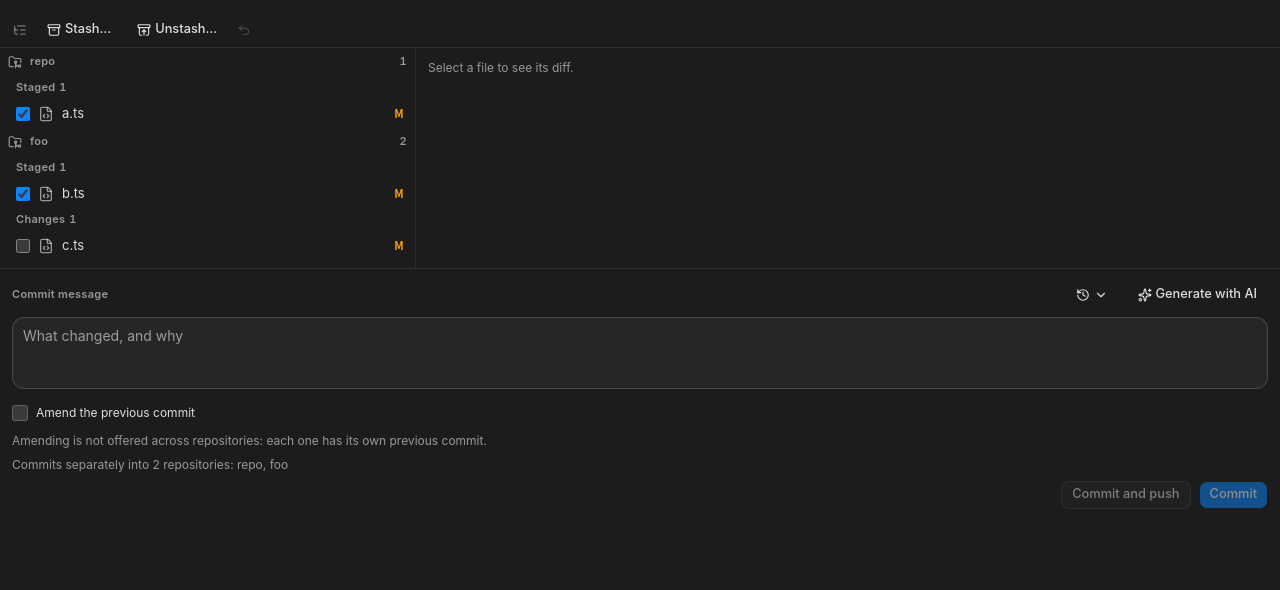
it: cross-repository commit › keeps the repositories that did commit when a later one fails
Type "fix: two repositories" into the text box named "Commit message" at (640, 353), box top-left (12, 317), bottom-right (1268, 389)
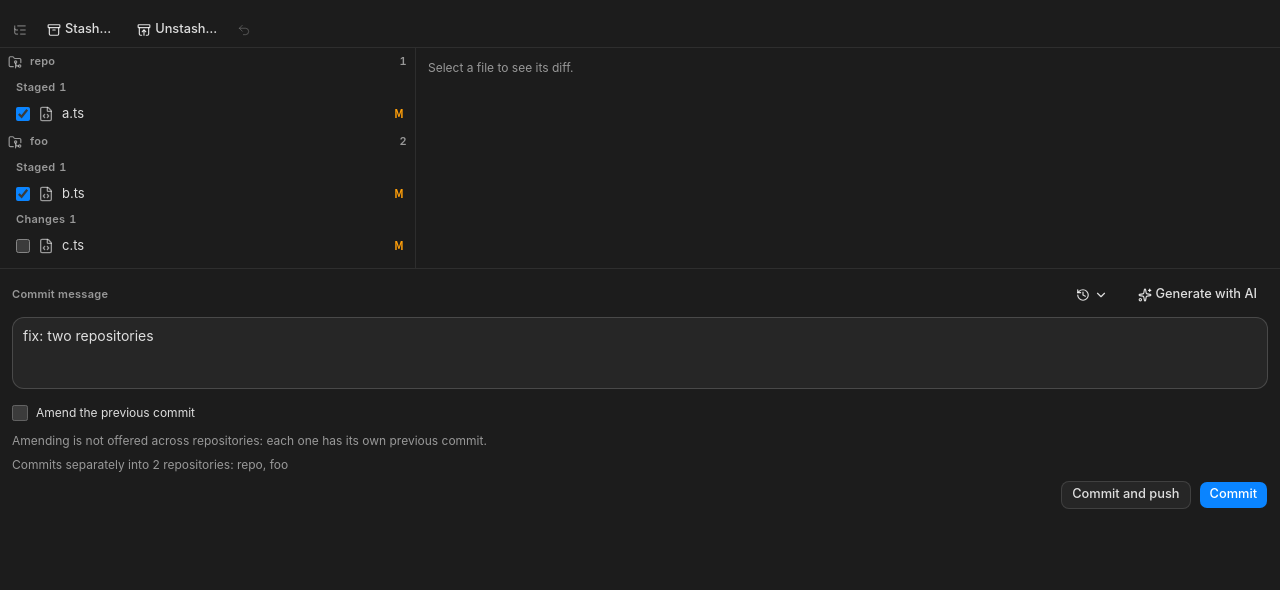
Click the button "Commit" at (1233, 495), box top-left (1199, 481), bottom-right (1268, 509)
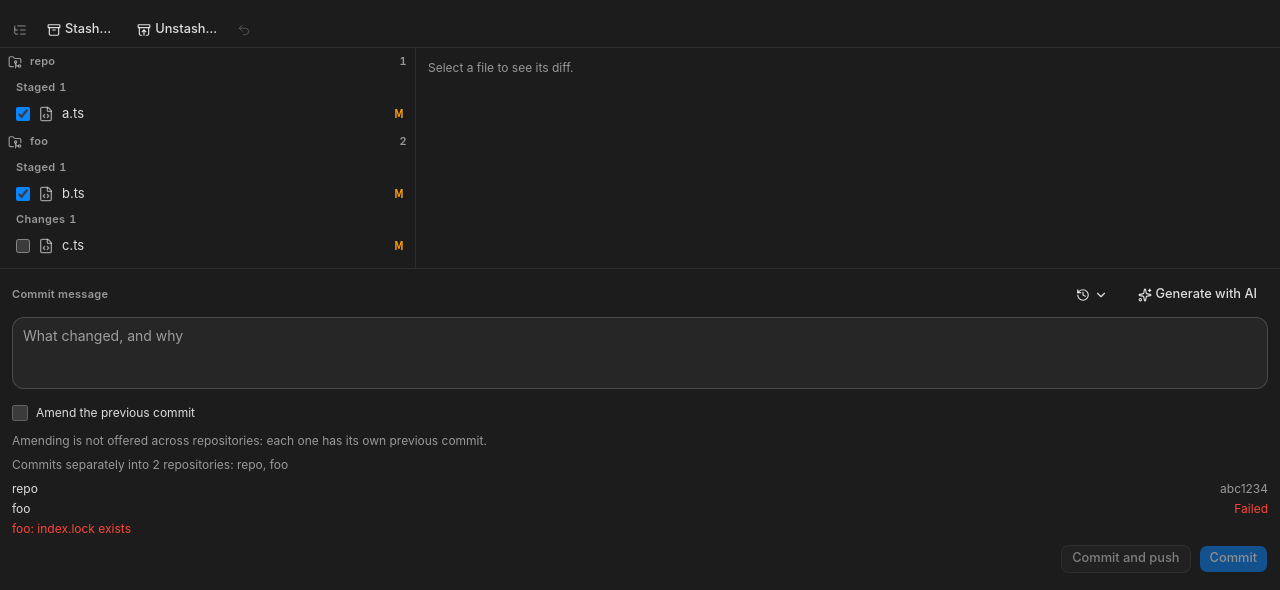
Expected: the text "abc1234" is shown, top-left (1220, 481), bottom-right (1268, 497)
Expected: the text "foo: index.lock exists" is shown, top-left (12, 521), bottom-right (131, 536)
